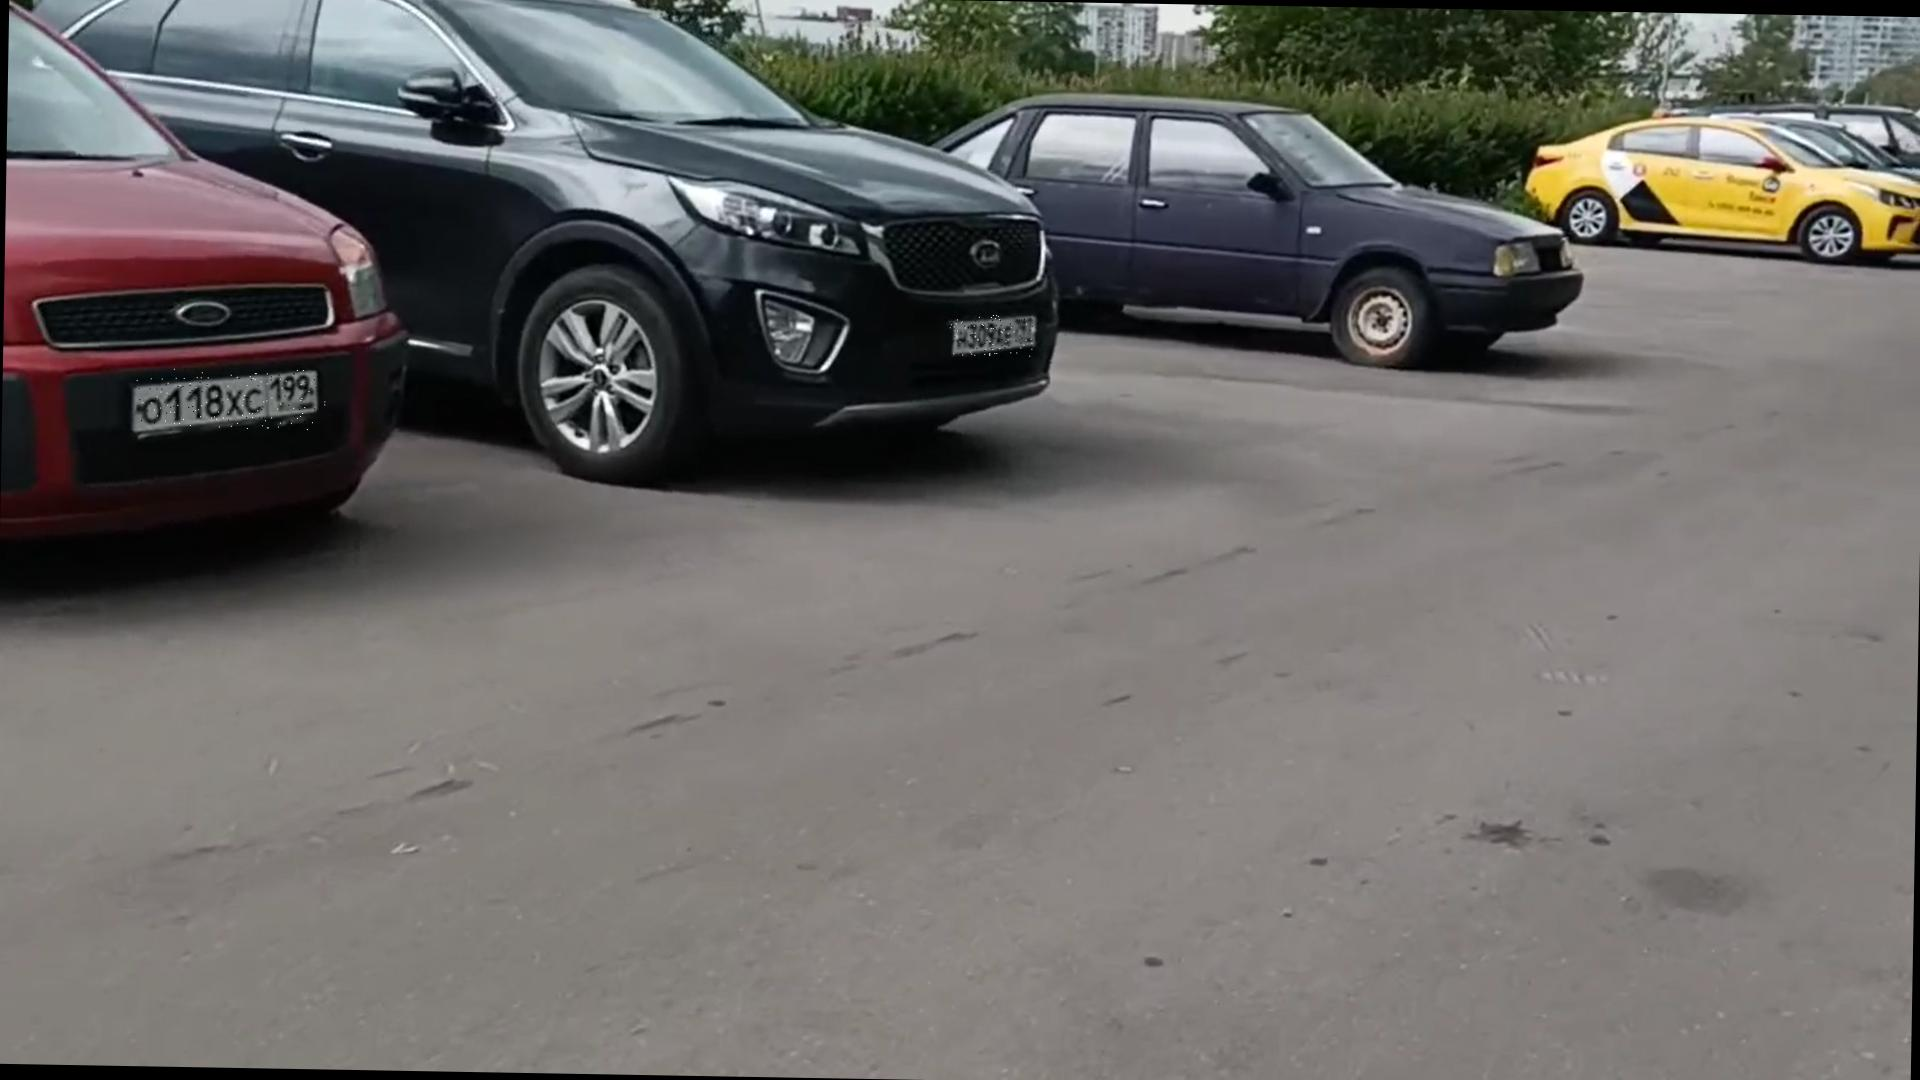plate: (138, 369, 329, 433), (949, 316, 1034, 358)
